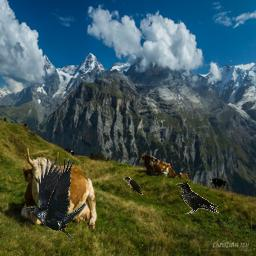Crow: (24, 155, 87, 245), (176, 183, 219, 214)
Cuckoo: (122, 177, 143, 198)
